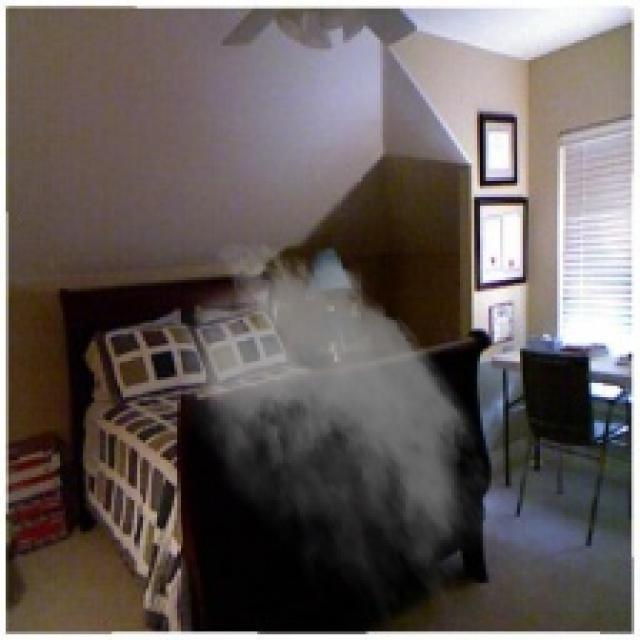Smoke: (163, 228, 508, 623)
